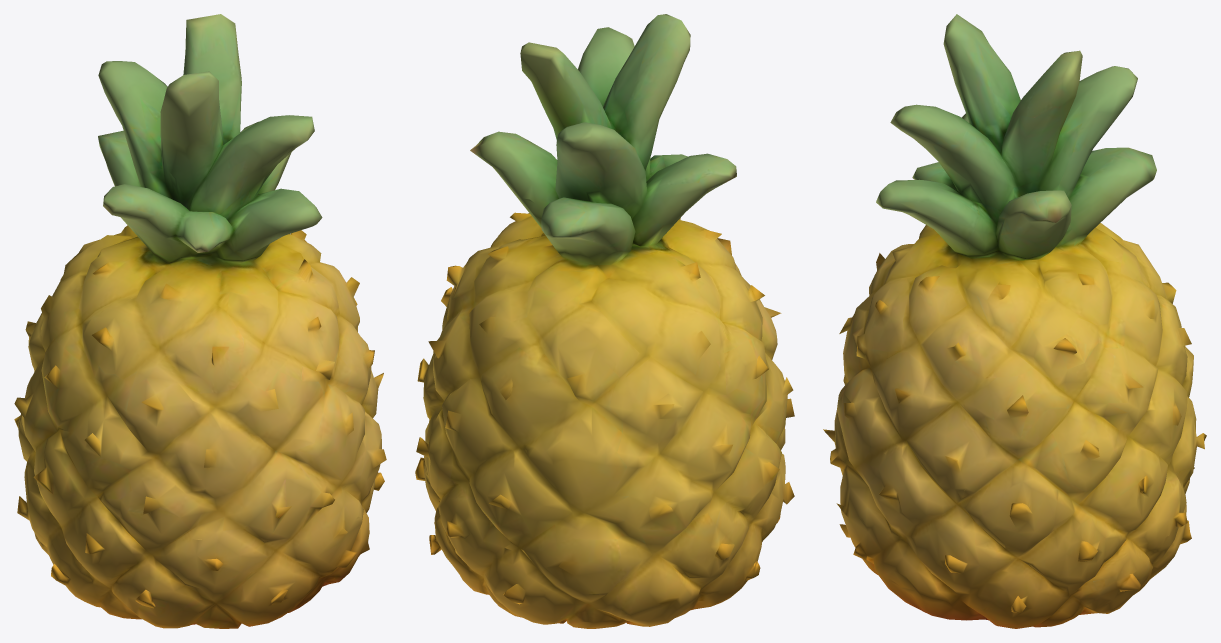
The model's file is pineapple.glb.
3 views of the same model, side by side, from view 1: azimuth 30°, elevation 25°; view 2: azimuth 150°, elevation 25°; view 3: azimuth 270°, elevation 25° (orthographic). The views are drawn at different scales.
Visible parts, largest first — view 1: tripo_node_2ad5619e-efd4-4c4e-beda-37b237a67380; view 2: tripo_node_2ad5619e-efd4-4c4e-beda-37b237a67380; view 3: tripo_node_2ad5619e-efd4-4c4e-beda-37b237a67380.
Part boxes in pixels (bbox=[...]): tripo_node_2ad5619e-efd4-4c4e-beda-37b237a67380: bbox=[14, 14, 386, 628]; tripo_node_2ad5619e-efd4-4c4e-beda-37b237a67380: bbox=[415, 14, 794, 628]; tripo_node_2ad5619e-efd4-4c4e-beda-37b237a67380: bbox=[823, 14, 1206, 628].
Size of the model in its own units: 0.6349 by 1 by 0.637.
1 material, 1 textured.
